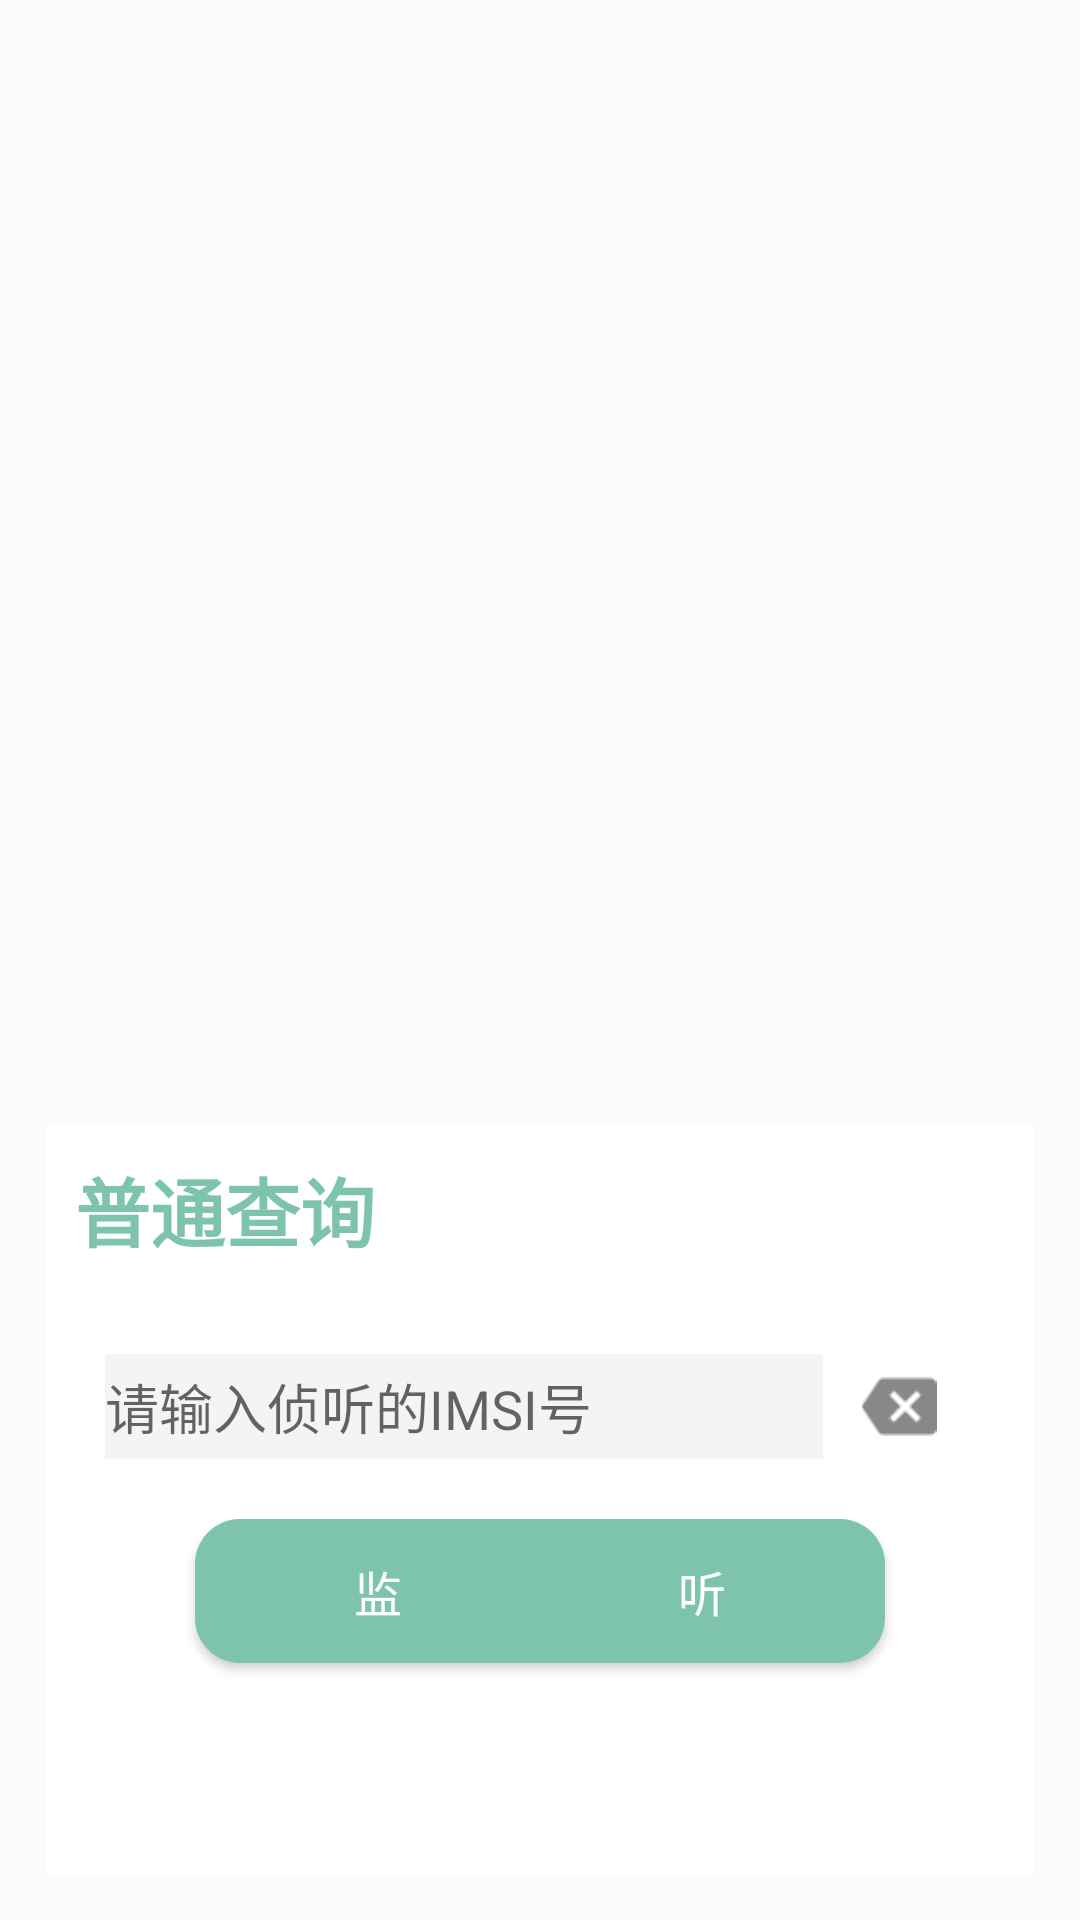

Locate icon controls on the screen. Image size 1080 x 1920, boxes as (x1, y1, x2, y2).
one del: (862, 1377, 937, 1436)
